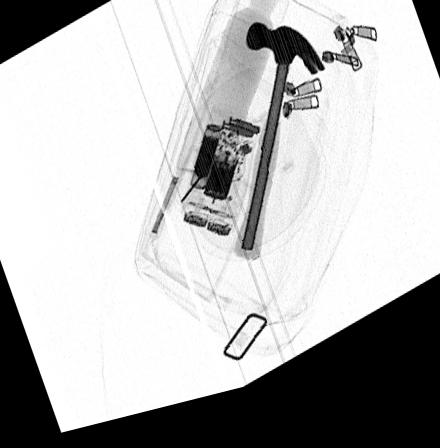Hammer: (233, 34, 326, 276)
